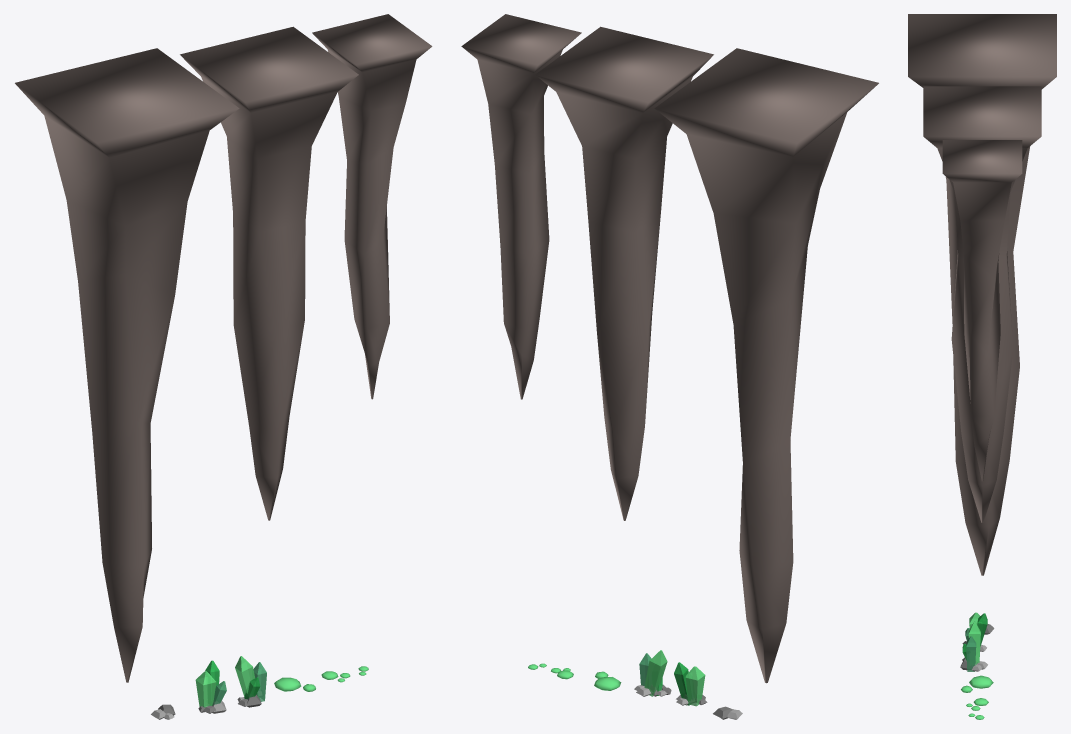
The model's file is cuevaAsstes.fbx.
The picture shows the model from 3 angles, left to right: view 1: azimuth 30°, elevation 25°; view 2: azimuth 150°, elevation 25°; view 3: azimuth 270°, elevation 25°; orthographic projection. The views are drawn at different scales.
Visible parts, largest first — view 1: estalagtita1, estalagtita2, stalagtita3, piedras3, piedras2; view 2: estalagtita1, estalagtita2, stalagtita3, piedras3, piedras2; view 3: estalagtita1, estalagtita2, stalagtita3, piedras3, piedras2, slime3.
Part boxes in pixels (<box>): estalagtita1: <box>15,48,239,682</box>; estalagtita2: <box>180,26,358,520</box>; stalagtita3: <box>312,14,432,399</box>; piedras3: <box>235,656,266,707</box>; piedras2: <box>195,660,226,713</box>; estalagtita1: <box>654,48,878,683</box>; estalagtita2: <box>535,26,713,520</box>; stalagtita3: <box>461,14,581,399</box>; piedras3: <box>634,650,671,696</box>; piedras2: <box>674,662,707,706</box>; estalagtita1: <box>908,14,1056,575</box>; estalagtita2: <box>923,86,1041,522</box>; stalagtita3: <box>942,140,1022,481</box>; piedras3: <box>960,621,987,671</box>; piedras2: <box>962,612,987,651</box>; slime3: <box>961,675,993,692</box>.
Size of the model in its own units: 654 by 1115 by 263.
